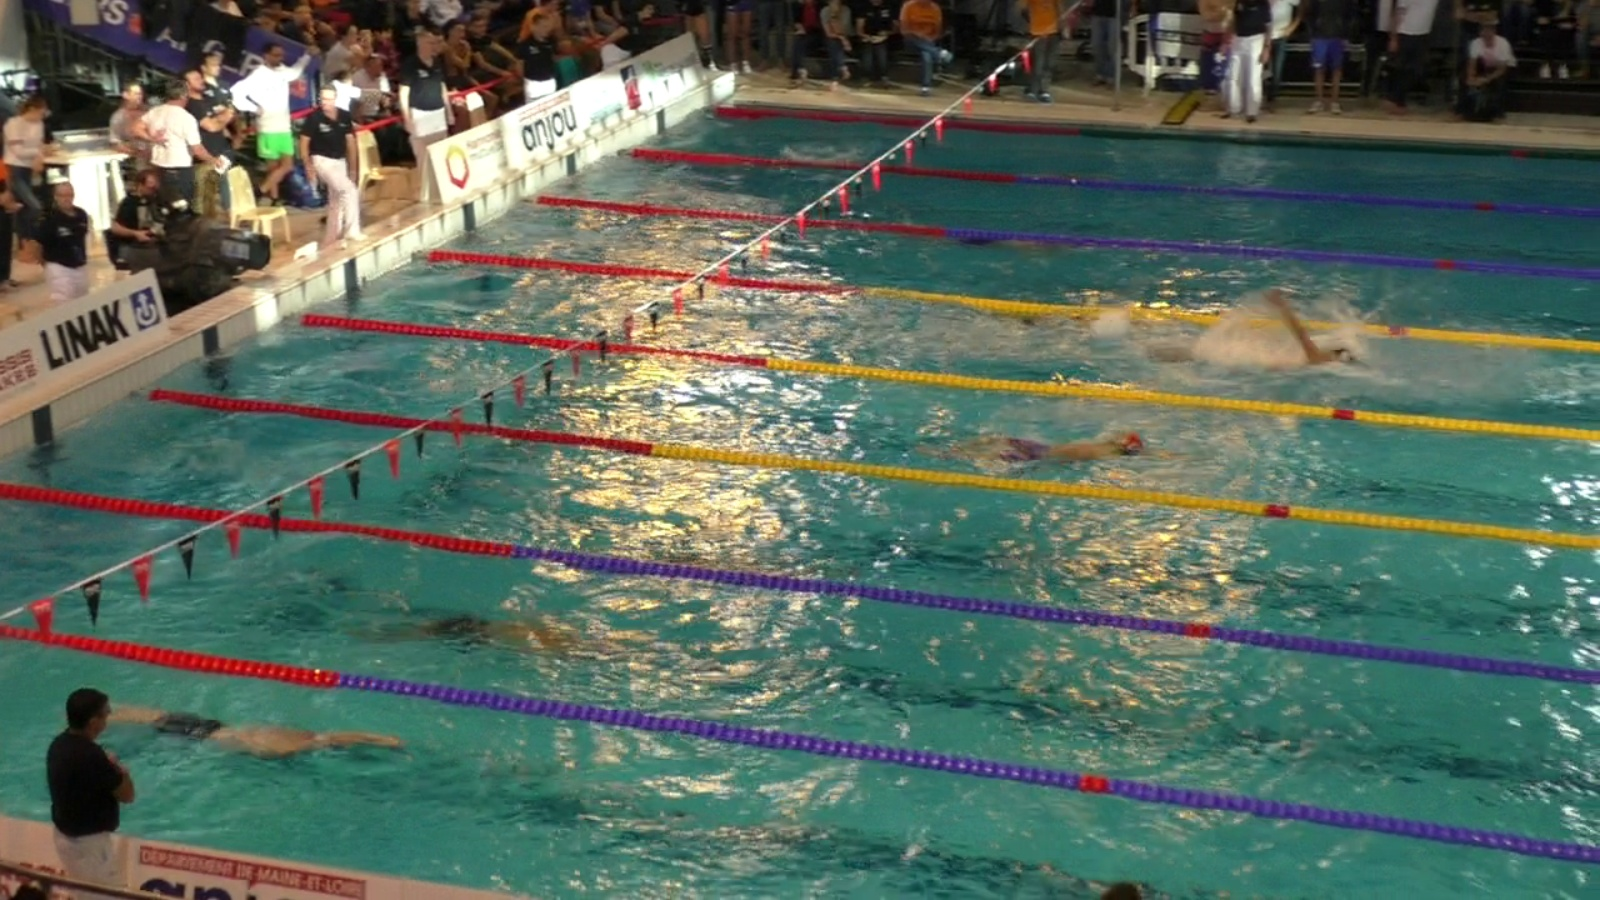swimmerwdd: (102, 691, 409, 777), (1113, 292, 1359, 371), (381, 593, 598, 663), (911, 424, 1155, 469), (949, 215, 1078, 253)
